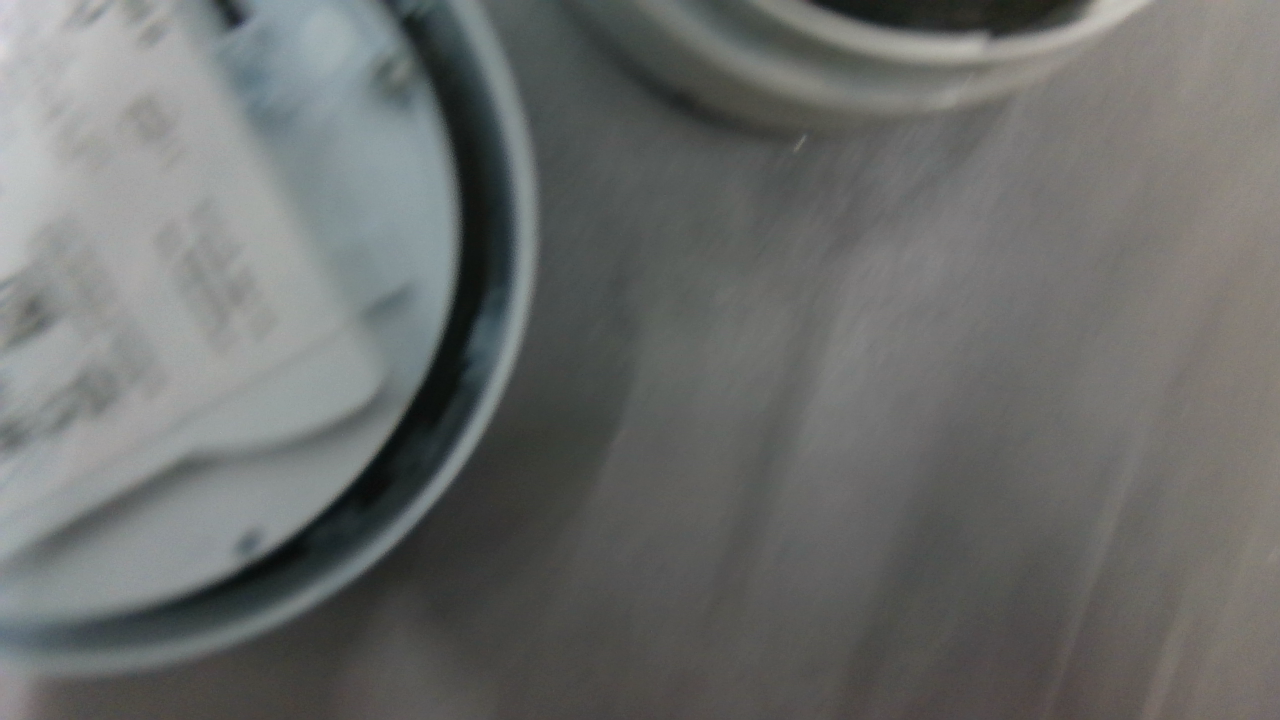HexScrew: (377, 53, 419, 105)
